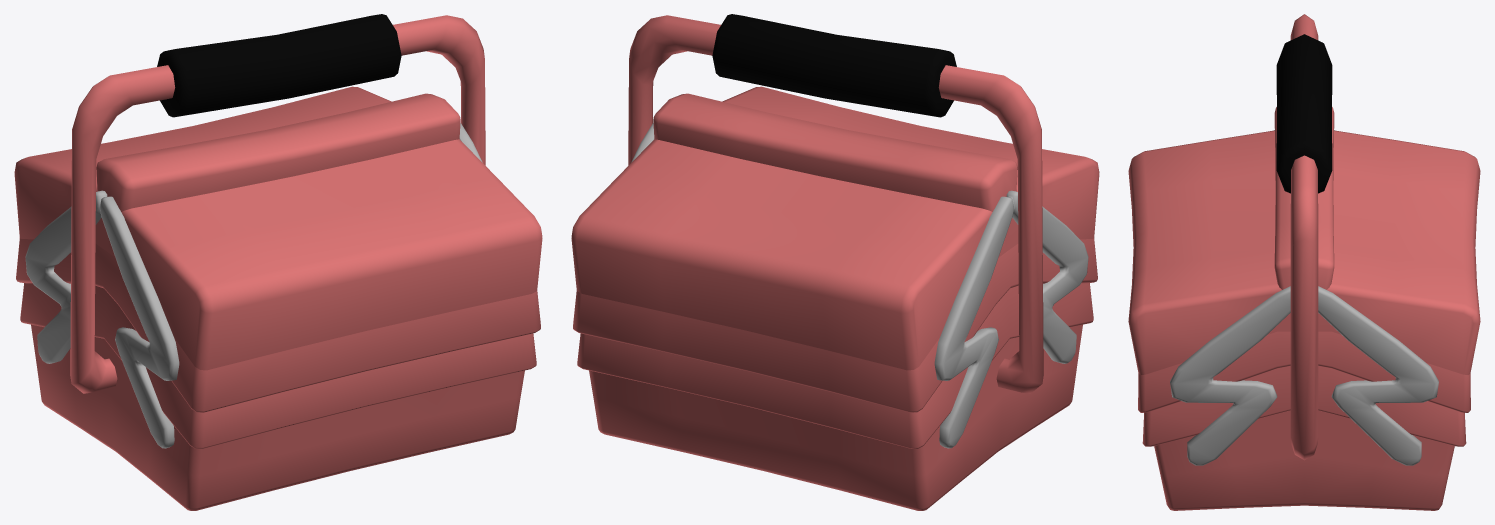
The model's file is props_toolBox.fbx.
3 renders of one model, left to right at view 1: azimuth 30°, elevation 25°; view 2: azimuth 150°, elevation 25°; view 3: azimuth 270°, elevation 25°, orthographic. The views are drawn at different scales.
Visible parts, largest first — view 1: ToolBox, ToolBox.002, ToolBox.001; view 2: ToolBox, ToolBox.002, ToolBox.001; view 3: ToolBox, ToolBox.001, ToolBox.002.
Part boxes in pixels (x1,y1,x2,y2): ToolBox: (14,15,542,510); ToolBox.002: (157,14,401,117); ToolBox.001: (25,123,482,448); ToolBox: (571,15,1099,510); ToolBox.002: (712,14,956,117); ToolBox.001: (631,123,1088,448); ToolBox: (1128,14,1480,510); ToolBox.001: (1170,130,1438,465); ToolBox.002: (1276,34,1332,193).
Bounding box in the file's own units: 125 × 114 × 101.
